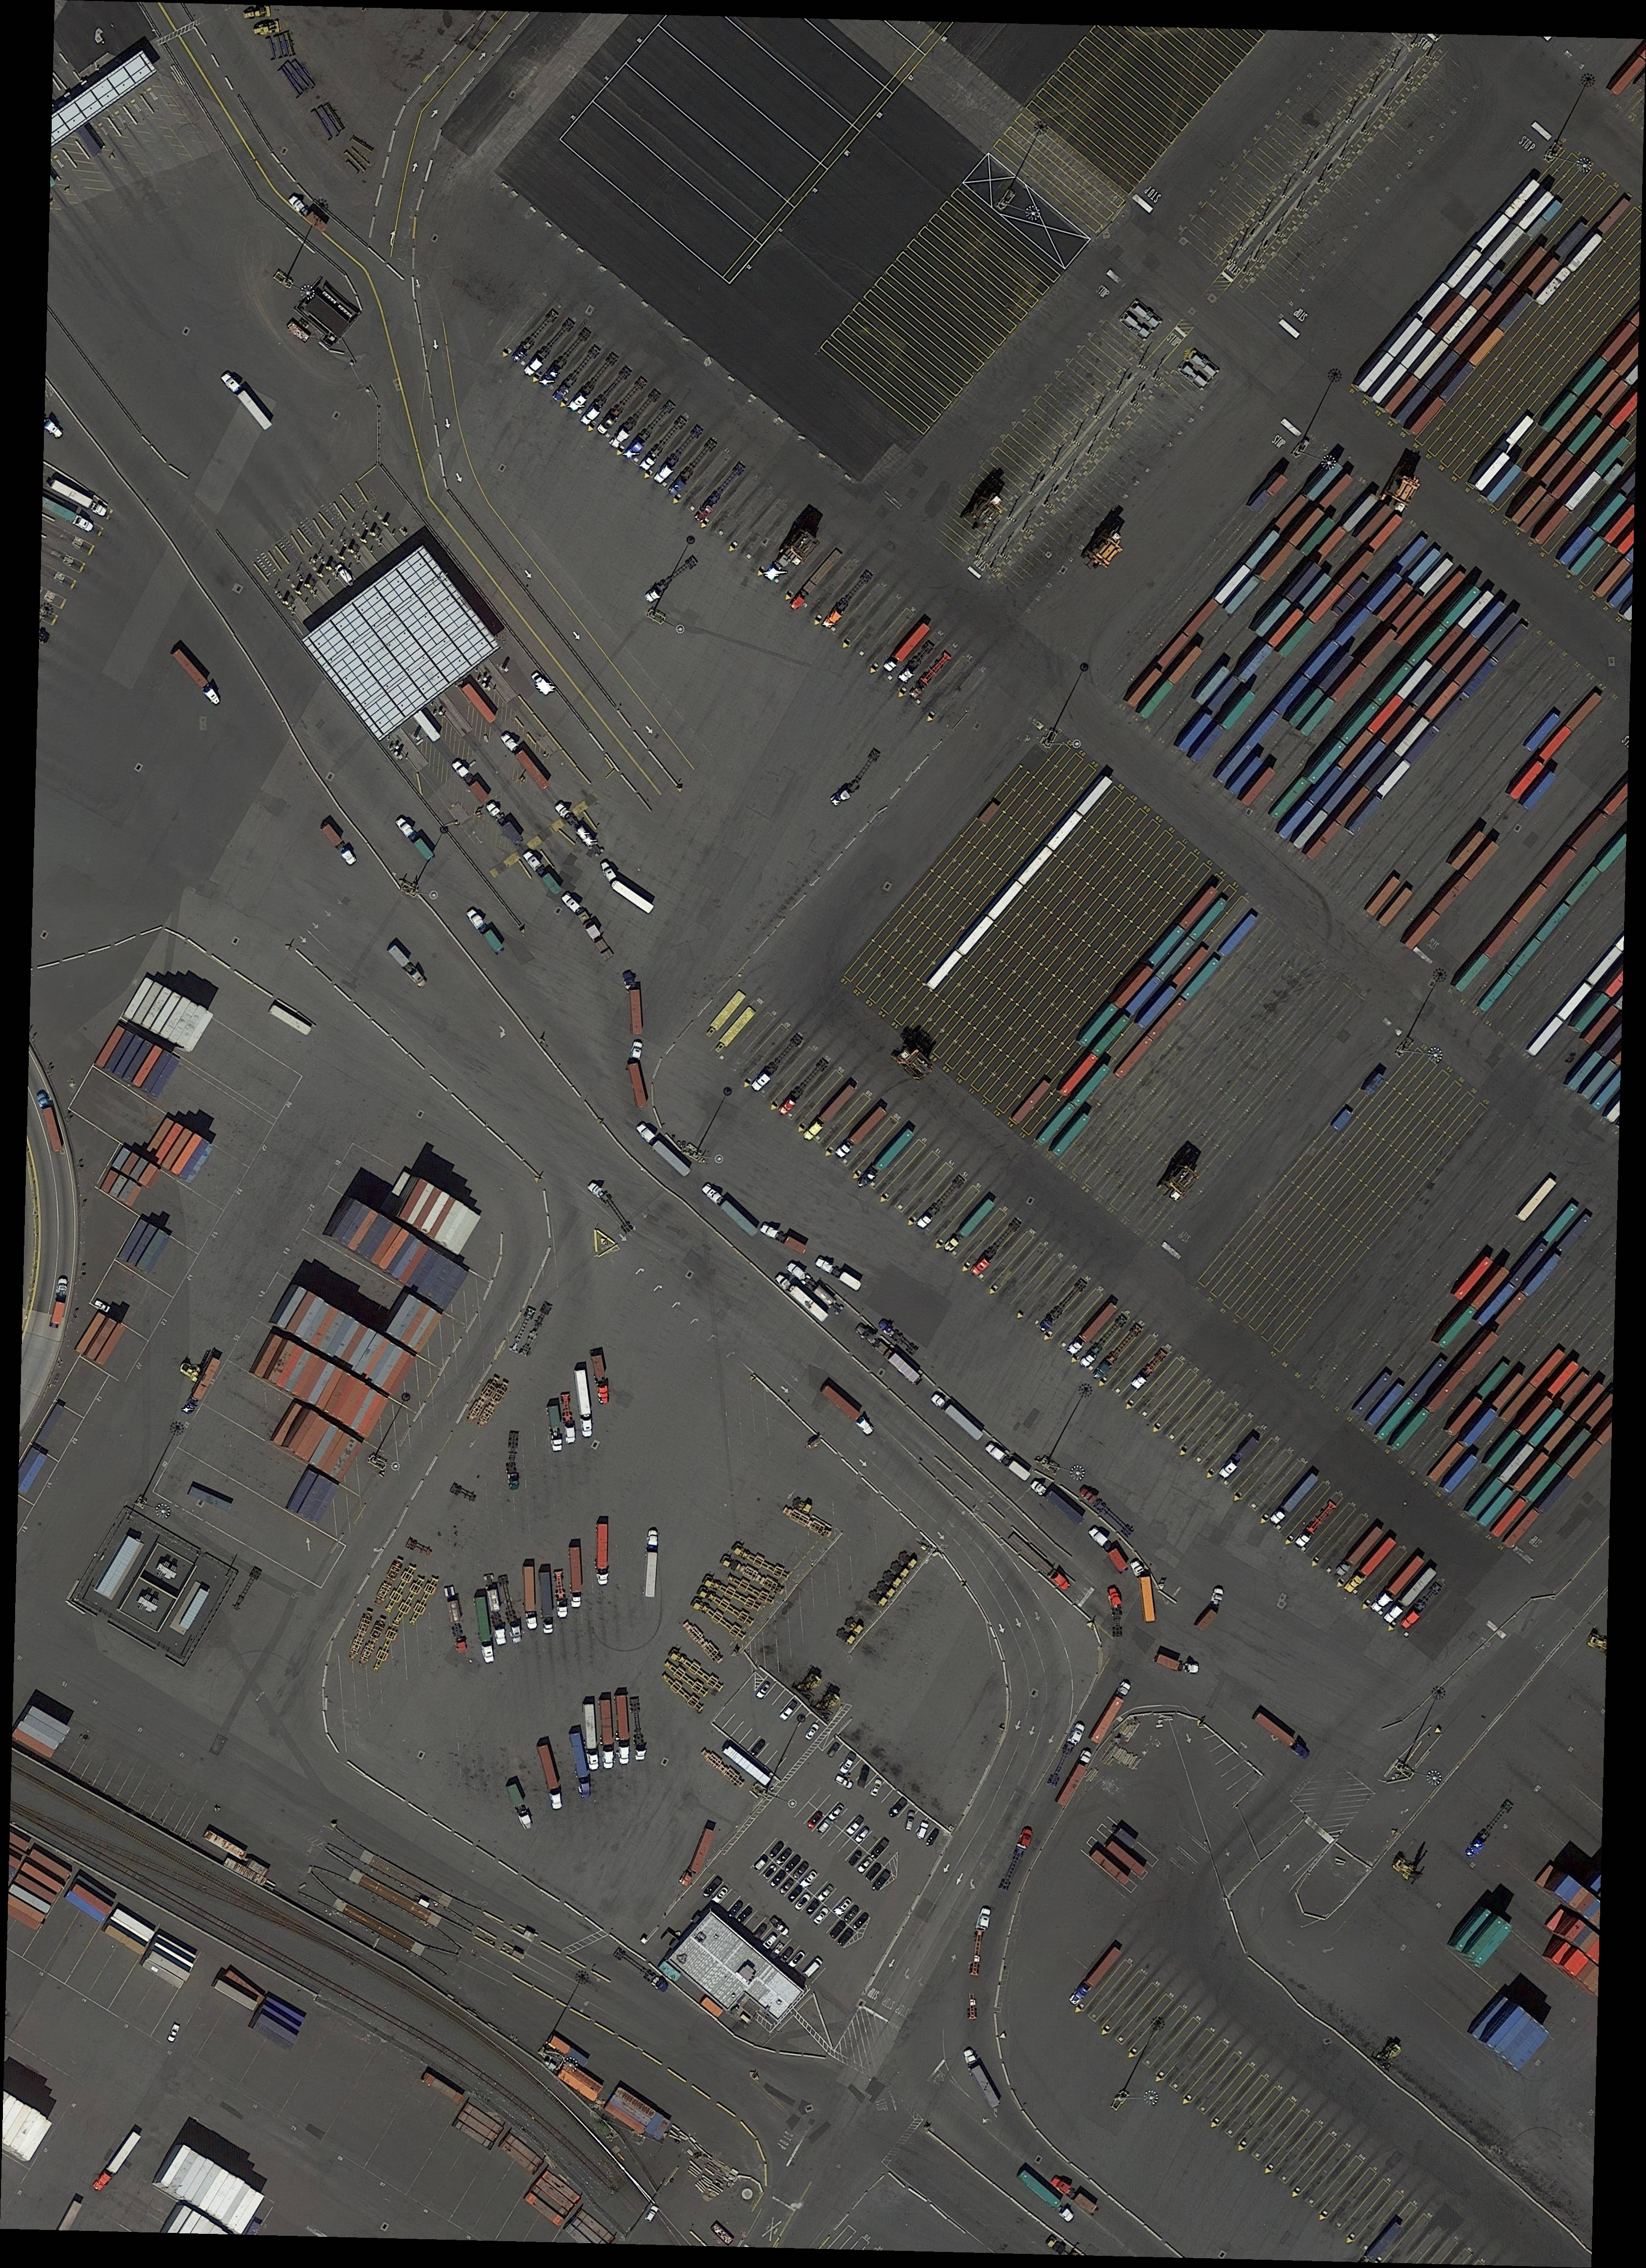large vehicle: (851, 1319, 925, 1388), (557, 887, 619, 963), (1005, 1530, 1075, 1594), (589, 856, 661, 917), (853, 1125, 918, 1192), (786, 546, 846, 615), (827, 743, 886, 812), (1064, 1944, 1126, 2009), (782, 1257, 848, 1319), (215, 368, 275, 435), (576, 363, 636, 430), (700, 1180, 763, 1241), (633, 1118, 696, 1180), (1013, 2166, 1079, 2226), (1368, 1551, 1427, 1616), (691, 460, 749, 526), (90, 2125, 145, 2196), (800, 1081, 858, 1146), (1382, 1564, 1440, 1629), (747, 1032, 807, 1093), (1459, 1798, 1517, 1861), (1341, 1534, 1399, 1597), (520, 317, 578, 380), (620, 398, 678, 461), (821, 567, 879, 630), (167, 643, 224, 708), (550, 342, 606, 407), (594, 373, 650, 438), (606, 386, 663, 451), (941, 1194, 999, 1255), (566, 350, 622, 414), (650, 423, 707, 486), (664, 435, 721, 498), (538, 326, 592, 391), (818, 1382, 879, 1439), (775, 1057, 832, 1118), (968, 1217, 1024, 1278), (497, 729, 552, 792), (772, 1270, 832, 1326), (1077, 1484, 1137, 1541), (508, 305, 562, 366), (636, 414, 691, 475), (1087, 1676, 1135, 1747), (832, 1104, 888, 1162), (1064, 1301, 1121, 1359), (1034, 1277, 1091, 1335), (582, 1180, 638, 1238), (927, 1389, 987, 1444), (1267, 1470, 1322, 1530), (552, 799, 606, 859), (1089, 1321, 1144, 1381), (641, 551, 701, 606), (673, 1824, 721, 1893), (1251, 1710, 1313, 1763), (1026, 1477, 1089, 1528), (717, 1553, 790, 1597), (913, 1173, 968, 1231), (881, 620, 934, 678), (959, 2044, 1003, 2113), (694, 1583, 758, 1631), (1334, 1523, 1387, 1579), (1077, 1312, 1130, 1368), (46, 475, 111, 519), (689, 1595, 749, 1643), (730, 1539, 793, 1583), (1047, 1720, 1087, 1789), (182, 1354, 224, 1419), (620, 1035, 656, 1113), (906, 648, 955, 703), (1054, 1747, 1096, 1810), (701, 1572, 765, 1615), (1398, 1579, 1445, 1634), (1047, 2171, 1101, 2219), (1084, 1521, 1131, 1576), (1214, 1433, 1264, 1483), (391, 814, 439, 865), (384, 942, 432, 991), (534, 1740, 566, 1814), (982, 1439, 1033, 1484), (448, 755, 493, 806), (520, 847, 566, 898), (463, 905, 508, 958), (811, 1252, 865, 1294), (1191, 1581, 1234, 1636), (42, 495, 99, 535), (483, 798, 527, 849), (566, 1727, 596, 1801), (999, 1826, 1033, 1891), (895, 637, 941, 685), (481, 1571, 509, 1646), (756, 1219, 811, 1257), (33, 1088, 65, 1153), (285, 192, 331, 236), (317, 821, 360, 868), (1128, 1558, 1158, 1625), (1128, 1347, 1170, 1393), (874, 1317, 922, 1358), (442, 1583, 469, 1655), (619, 968, 645, 1039), (472, 1594, 497, 1666), (571, 1368, 596, 1440), (1151, 1650, 1205, 1682), (504, 1782, 536, 1833), (613, 1690, 633, 1766), (46, 1273, 70, 1331), (582, 1701, 601, 1771), (643, 1525, 661, 1602), (597, 1696, 615, 1771), (564, 1543, 583, 1611), (522, 1562, 539, 1632), (594, 1520, 612, 1588), (589, 1352, 612, 1405), (538, 1569, 555, 1636), (545, 1402, 564, 1454), (1107, 1587, 1126, 1638), (802, 1956, 823, 1979)
small vehicle: (701, 1875, 724, 1902), (768, 1916, 791, 1939), (869, 1837, 892, 1859), (844, 1815, 865, 1838), (886, 1796, 908, 1819), (871, 1870, 892, 1893), (733, 1905, 756, 1926), (791, 1891, 812, 1914), (814, 1881, 837, 1902), (774, 1847, 795, 1868), (782, 1852, 804, 1874), (790, 1859, 811, 1881), (851, 1911, 872, 1932), (841, 1903, 862, 1925), (839, 1752, 858, 1775), (835, 1926, 855, 1949), (779, 1701, 798, 1722), (864, 1861, 883, 1882), (855, 1854, 874, 1875), (805, 1810, 825, 1831), (768, 1868, 788, 1889), (786, 1949, 807, 1969), (812, 1905, 832, 1926), (798, 1870, 819, 1889), (853, 1826, 872, 1845), (827, 1803, 846, 1822), (726, 1900, 745, 1919), (834, 1896, 853, 1916), (768, 1940, 786, 1962), (923, 1828, 941, 1849), (804, 1722, 821, 1741), (754, 1682, 772, 1701), (712, 1886, 730, 1905), (761, 1932, 779, 1951), (846, 1849, 864, 1868), (814, 1817, 832, 1837), (761, 1863, 779, 1882), (777, 1879, 797, 1896), (786, 1884, 804, 1903), (804, 1898, 821, 1918), (166, 2023, 182, 2044), (915, 1821, 931, 1842), (751, 1738, 767, 1757), (834, 1775, 855, 1789), (93, 1300, 111, 1315), (768, 1842, 784, 1859), (753, 1923, 768, 1940), (751, 1856, 768, 1872), (904, 1810, 916, 1831), (827, 1741, 841, 1759), (871, 1778, 883, 1798), (856, 1768, 869, 1787)
